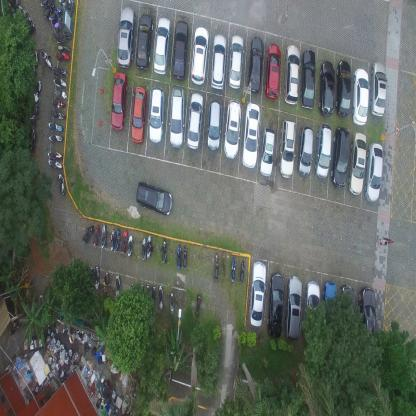car: (134, 178, 173, 218), (266, 271, 286, 340), (241, 102, 261, 170), (363, 140, 384, 204), (330, 125, 351, 189), (248, 259, 267, 329), (116, 3, 136, 69), (347, 130, 367, 196), (190, 24, 210, 86), (284, 274, 302, 342), (223, 97, 242, 161), (358, 286, 376, 353), (338, 283, 356, 348), (152, 16, 172, 74), (168, 84, 186, 148), (135, 11, 154, 71), (186, 90, 204, 152), (171, 18, 189, 80), (278, 118, 296, 180), (303, 280, 320, 345), (110, 70, 128, 130), (247, 34, 265, 94), (334, 58, 352, 118), (283, 44, 300, 106), (210, 34, 228, 92), (370, 60, 388, 118), (314, 122, 332, 180), (322, 280, 338, 345), (300, 46, 316, 110), (352, 66, 369, 126), (148, 86, 165, 145), (264, 41, 281, 100), (130, 84, 146, 145), (296, 125, 314, 178), (206, 96, 223, 152), (318, 60, 335, 116), (228, 33, 244, 91), (259, 124, 276, 178)
